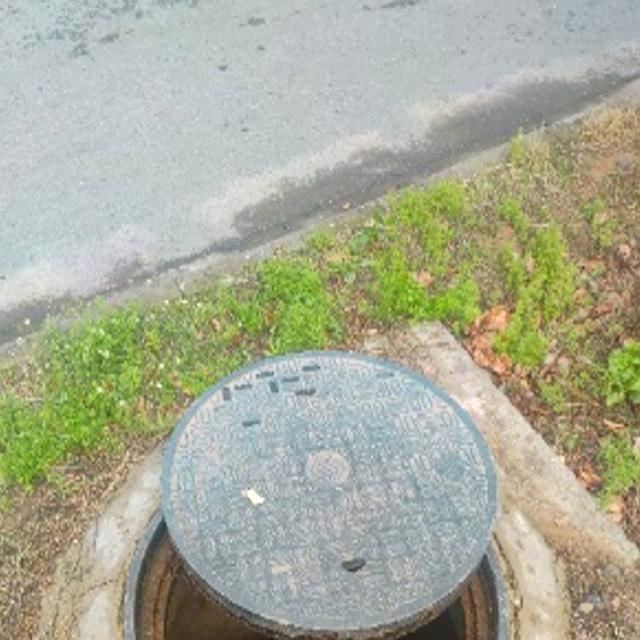uncovered: (103, 342, 518, 640)
